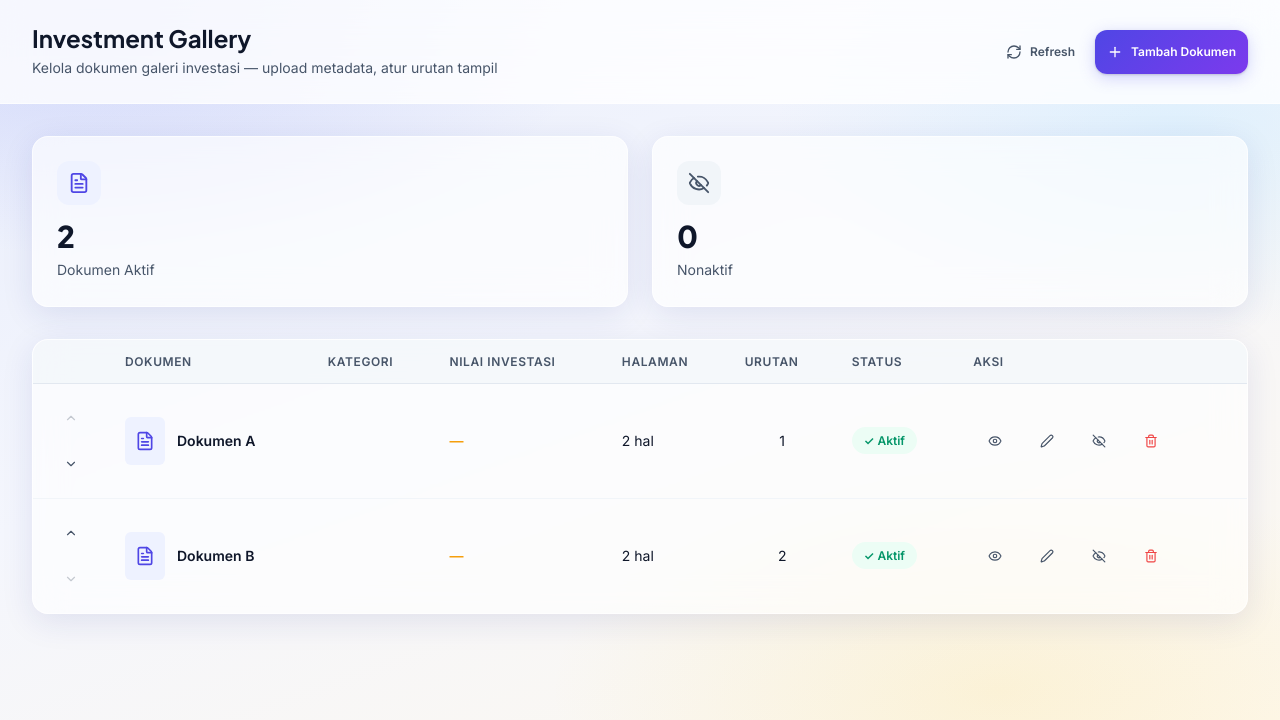
Test: Admin gallery: mutasi dicek (tidak ada sukses palsu) › tukar urutan (2 UPDATE berurutan, non-atomik) › sukses: kedua langkah terbukti -> urutan tertukar di layar, tanpa toast gagal & tanpa muat ulang
Check: the text "Dokumen A" is shown, box [177,432,255,449]
Click the 1st button titled "Pindah ke bawah" at (71,464), box [49,442,93,486]
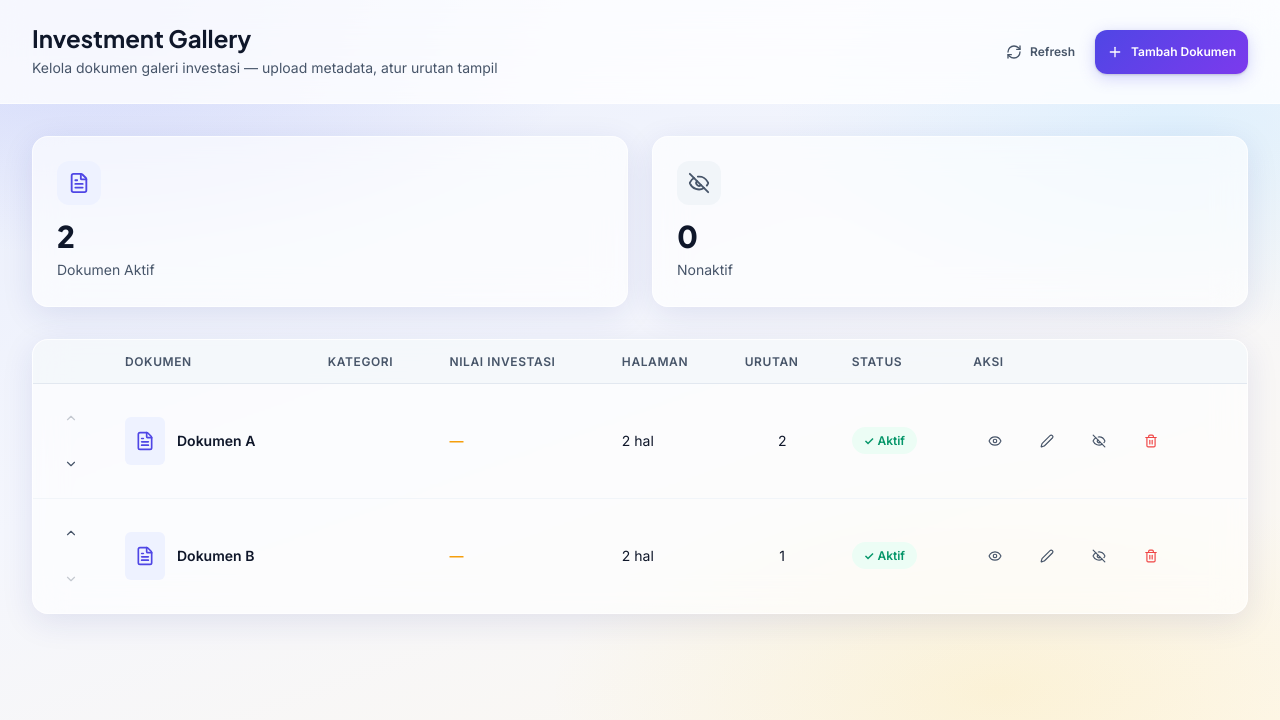
Check: the text "2" is shown, box [729,383,836,498]
Check: the text "1" is shown, box [729,498,836,613]
